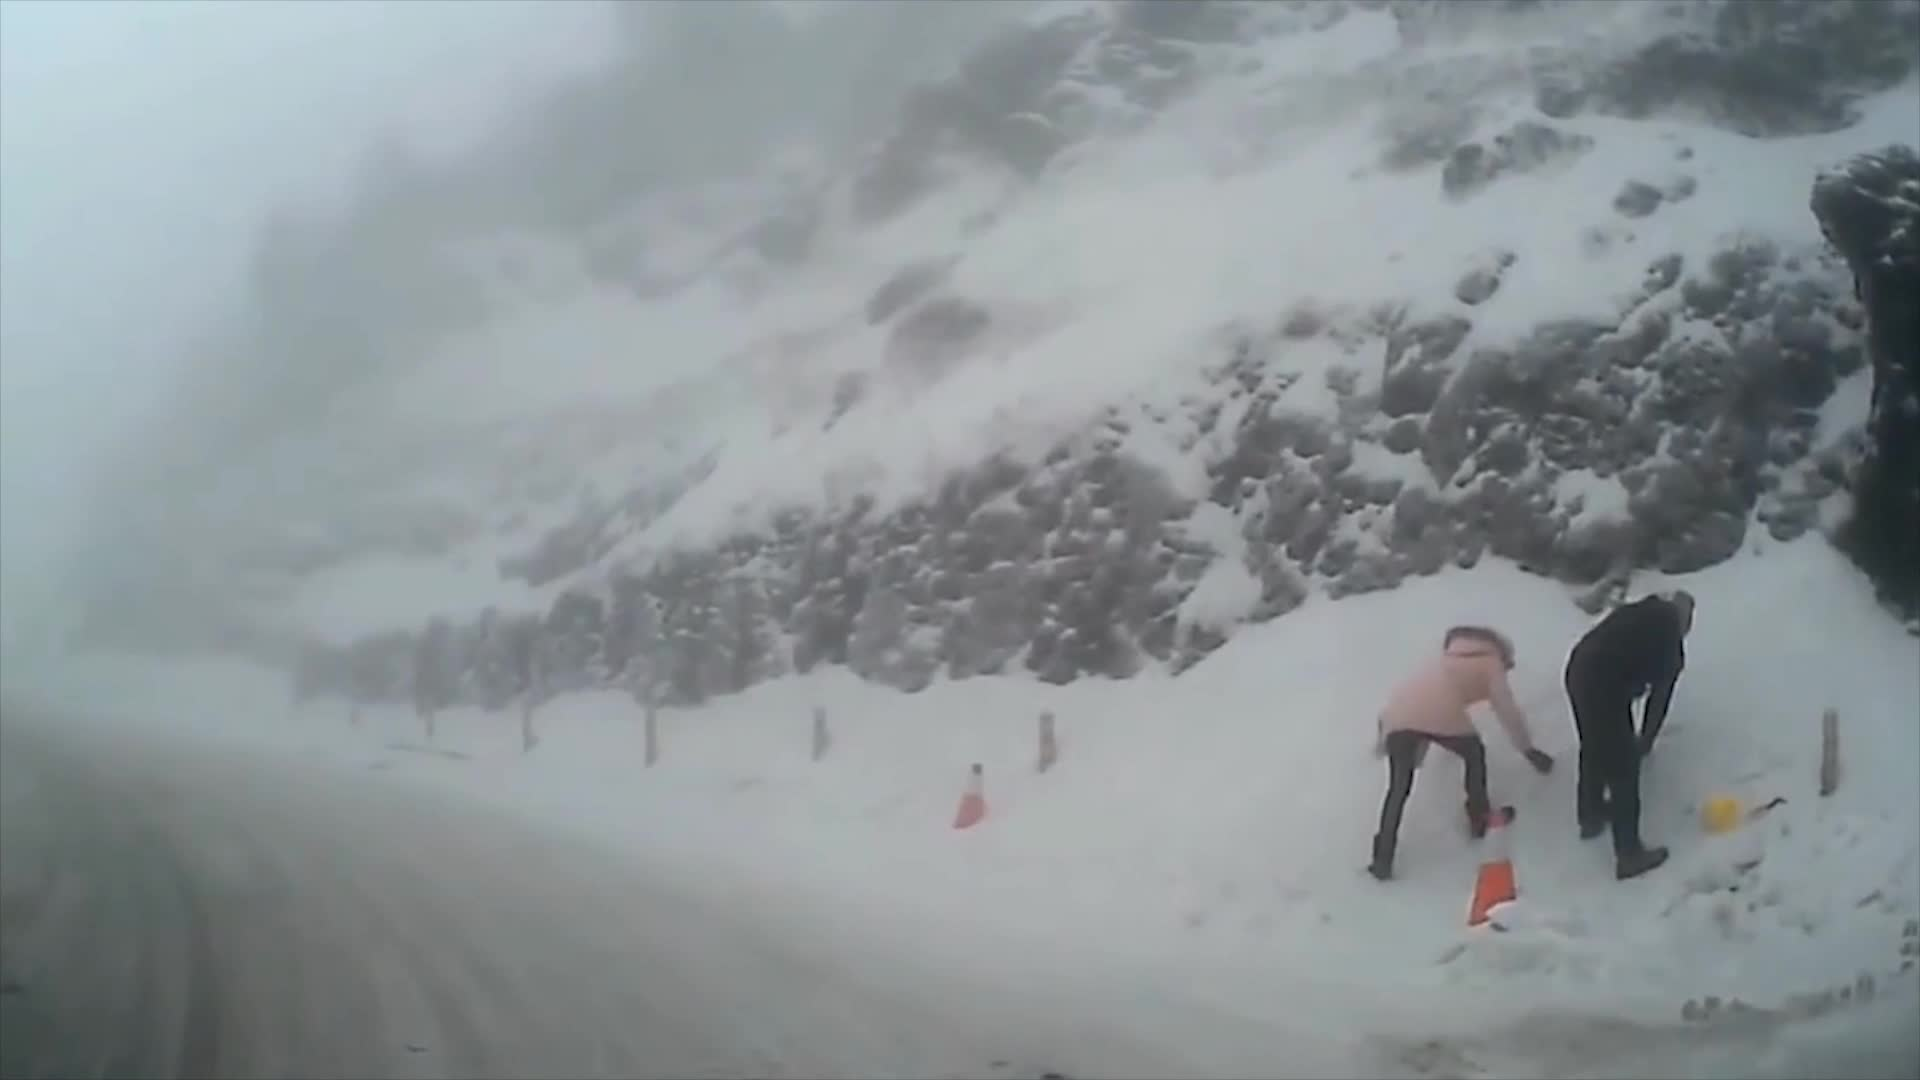pedestrian: (1366, 625, 1545, 878), (1566, 593, 1697, 881)
